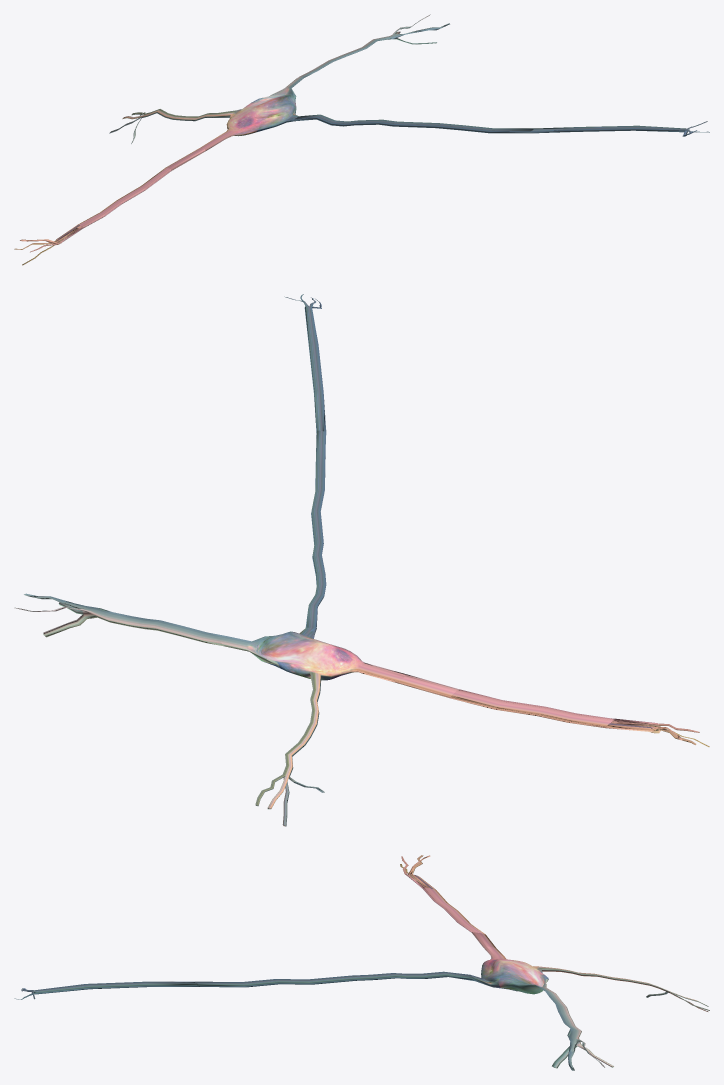
The model's file is lastneuron13.fbx.
3 views of the same model, one above another, from view 1: azimuth 30°, elevation 25°; view 2: azimuth 150°, elevation 25°; view 3: azimuth 270°, elevation 25° (orthographic). The views are drawn at different scales.
Parts seen in each view (by area): view 1: DONE3.002 ex; view 2: DONE3.002 ex; view 3: DONE3.002 ex.
Boxes of the visible parts, bbox=[...] form: DONE3.002 ex: bbox=[14, 14, 709, 265]; DONE3.002 ex: bbox=[14, 294, 709, 826]; DONE3.002 ex: bbox=[14, 855, 709, 1070].
Size of the model in its own units: 38585 by 11114 by 39448.
